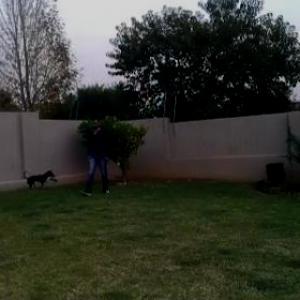follow: (86, 111, 112, 202)
